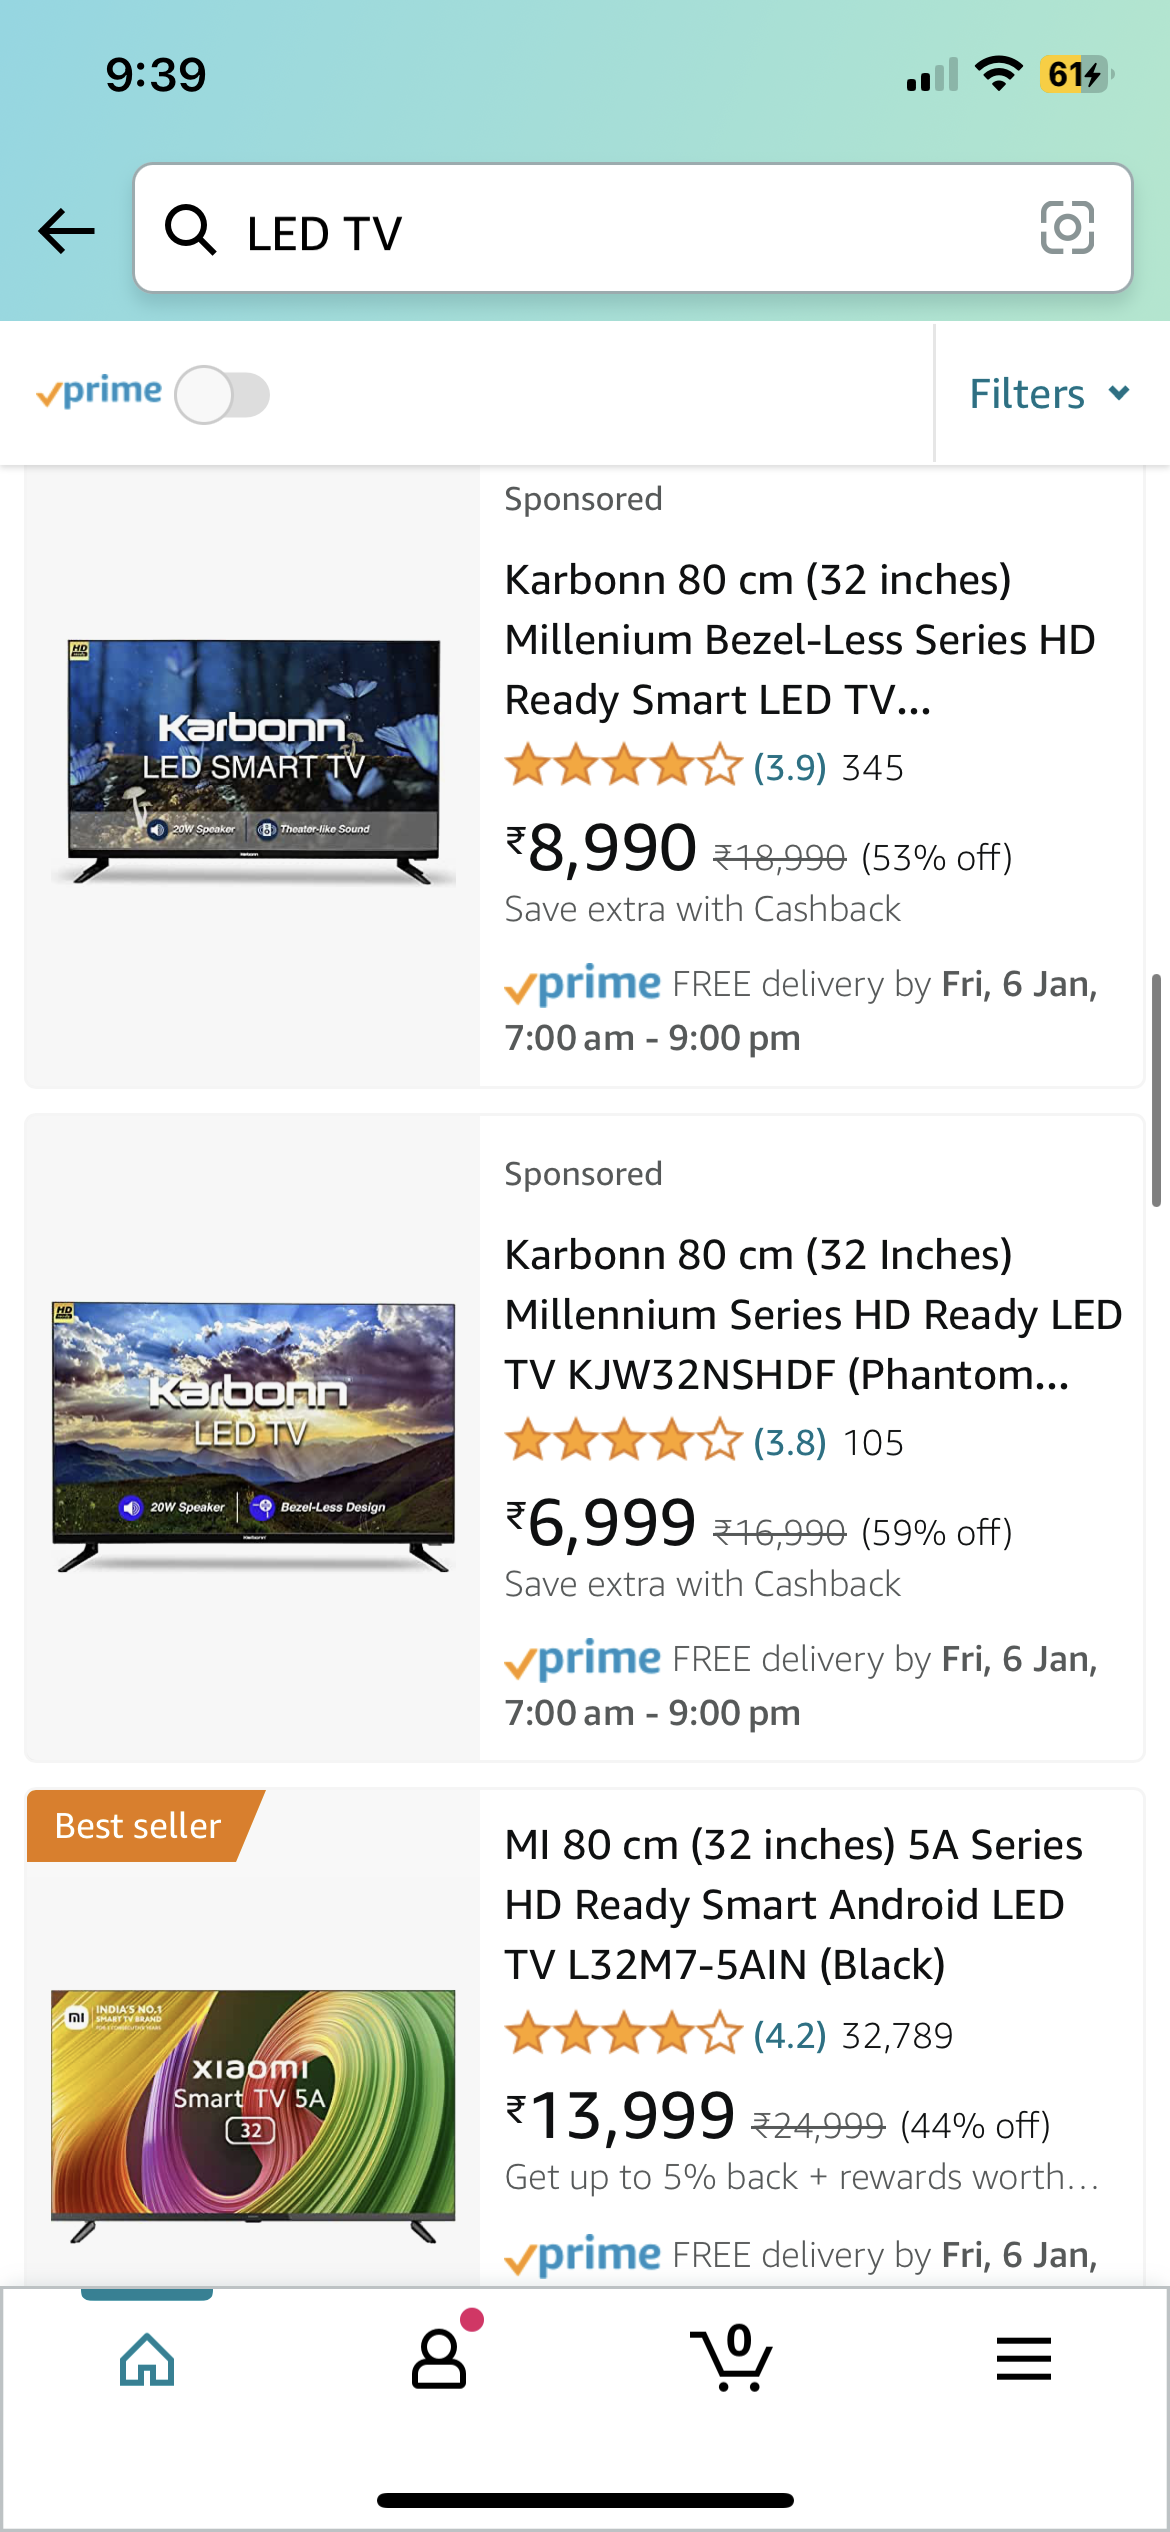LEDTV: (44, 1284, 466, 1581), (40, 1985, 466, 2245), (53, 625, 458, 896)
